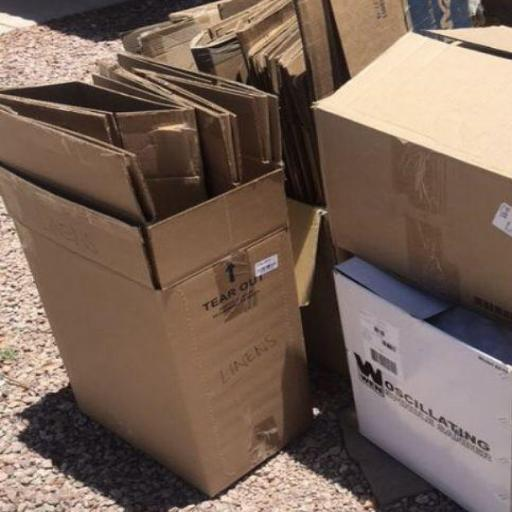cardboard: (0, 54, 327, 497), (307, 25, 512, 327), (332, 254, 512, 512)
